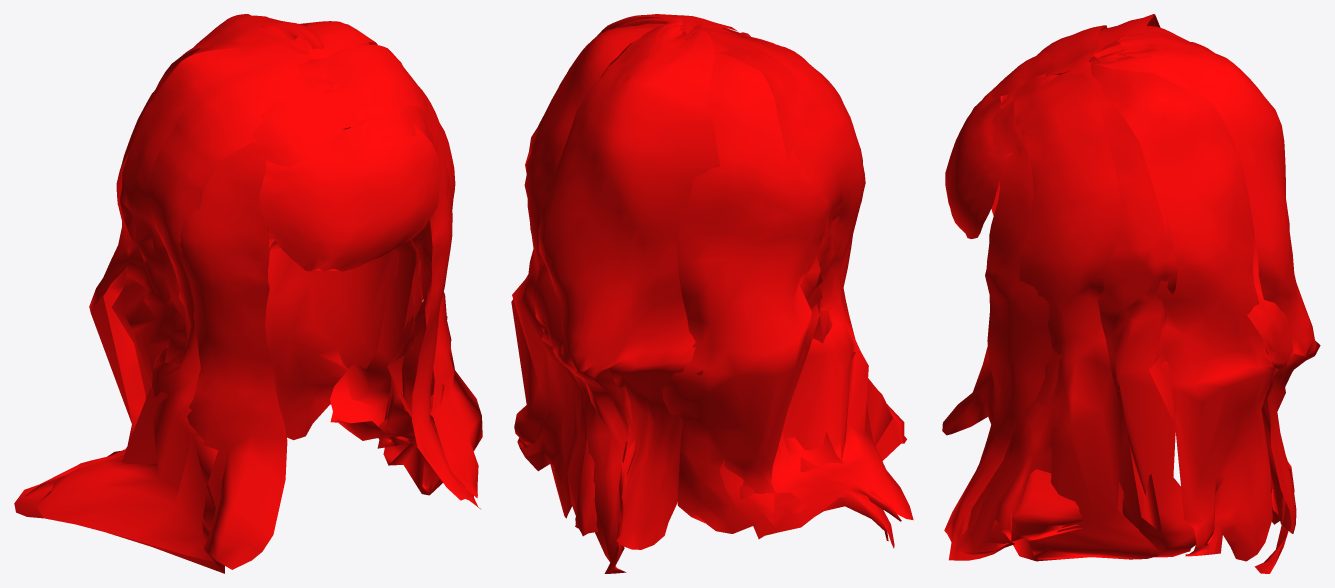
Rendered from sonntag78_junglebook_hair_F.glb.
3 renders of one model, left to right at view 1: azimuth 30°, elevation 25°; view 2: azimuth 150°, elevation 25°; view 3: azimuth 270°, elevation 25°, orthographic. The views are drawn at different scales.
Size of the model in its own units: 0.2874 by 0.3523 by 0.2312.
Materials: 1 (1 with a texture image).
